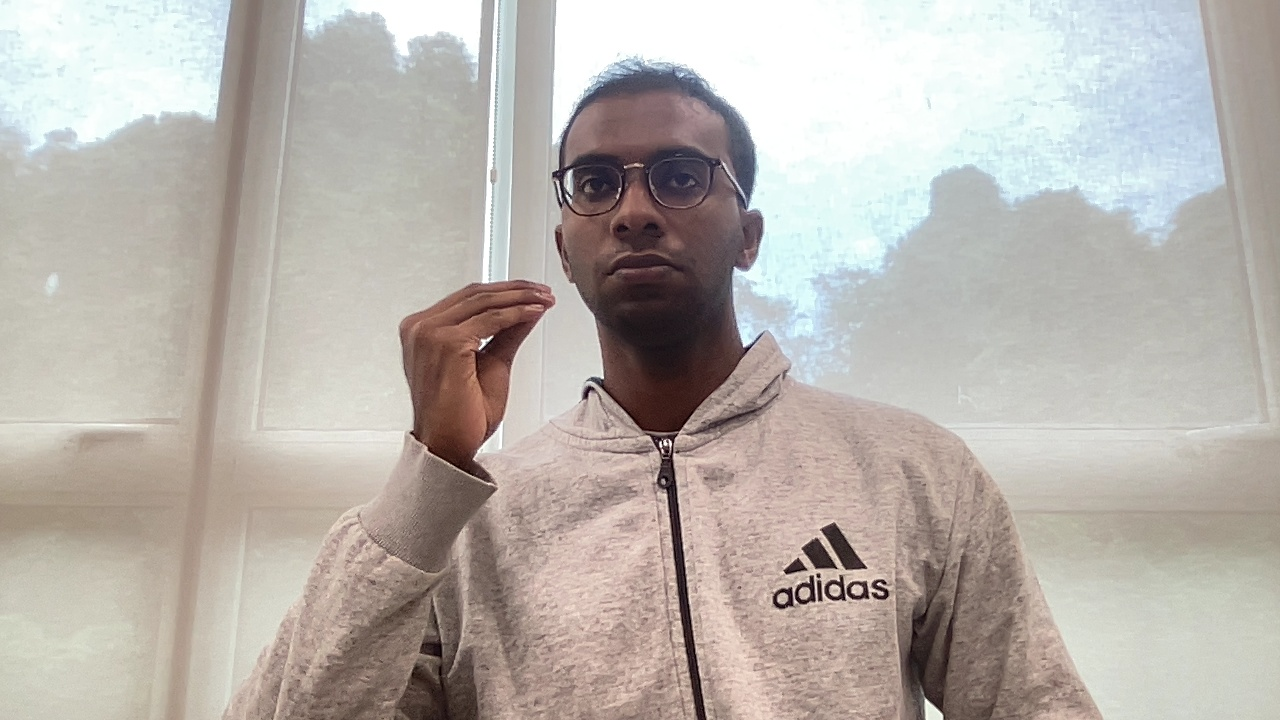eat: (392, 275, 560, 456)
